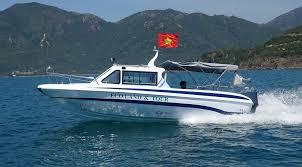Ship: (38, 52, 259, 123)
